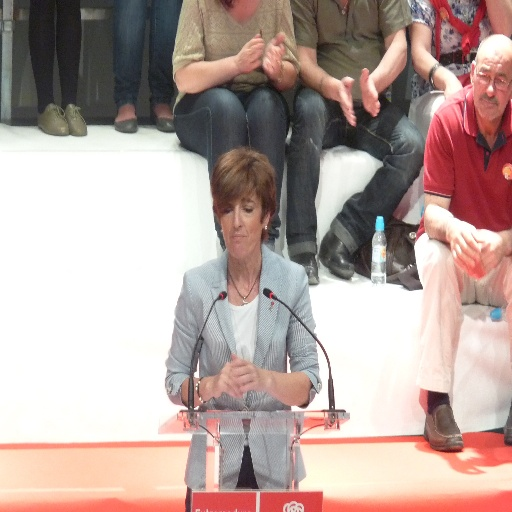hand: (253, 22, 303, 84), (447, 217, 485, 270), (227, 350, 266, 395), (475, 226, 503, 275), (211, 361, 245, 400), (235, 32, 264, 74), (336, 73, 357, 128), (358, 66, 380, 118), (442, 77, 463, 102)
